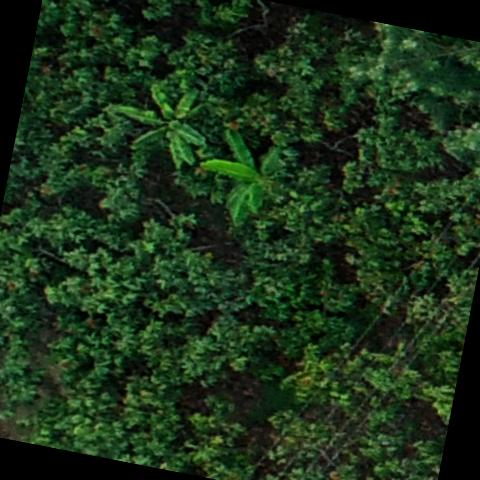Banana-plant: (190, 119, 294, 234), (106, 68, 215, 174)
